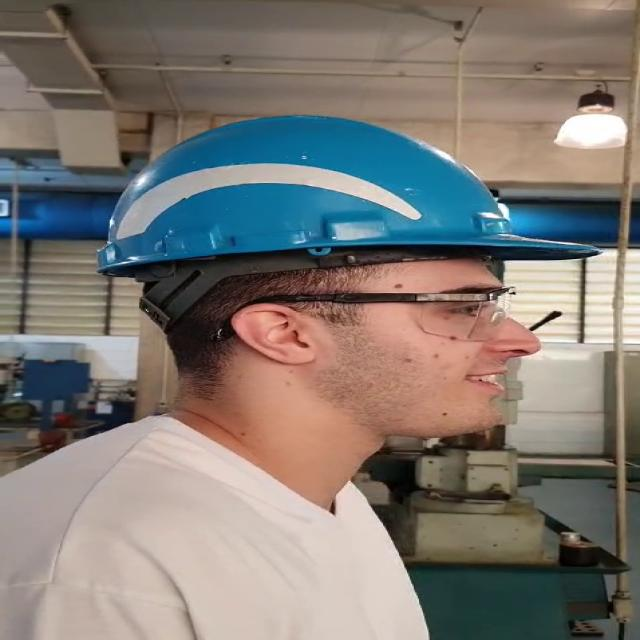oculos-epi: (252, 287, 514, 340)
